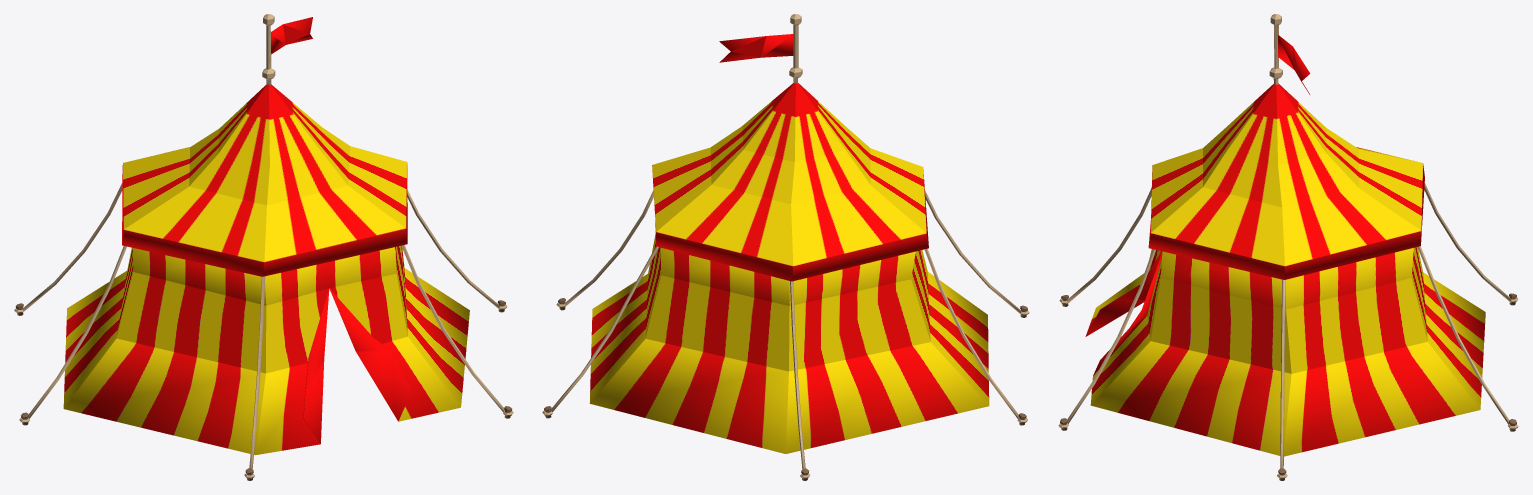
File: carpita amarilla y roja.fbx
3 views of the same model, side by side, from view 1: azimuth 30°, elevation 25°; view 2: azimuth 150°, elevation 25°; view 3: azimuth 270°, elevation 25° (orthographic). The views are drawn at different scales.
Parts seen in each view (by area): view 1: tent_pirple; view 2: tent_pirple; view 3: tent_pirple.
Boxes of the visible parts, bbox=[...] form: tent_pirple: bbox=[14, 14, 513, 480]; tent_pirple: bbox=[542, 14, 1029, 480]; tent_pirple: bbox=[1058, 14, 1518, 480].
Size of the model in its own units: 1060 by 747 by 886.
1 material, 1 textured.
